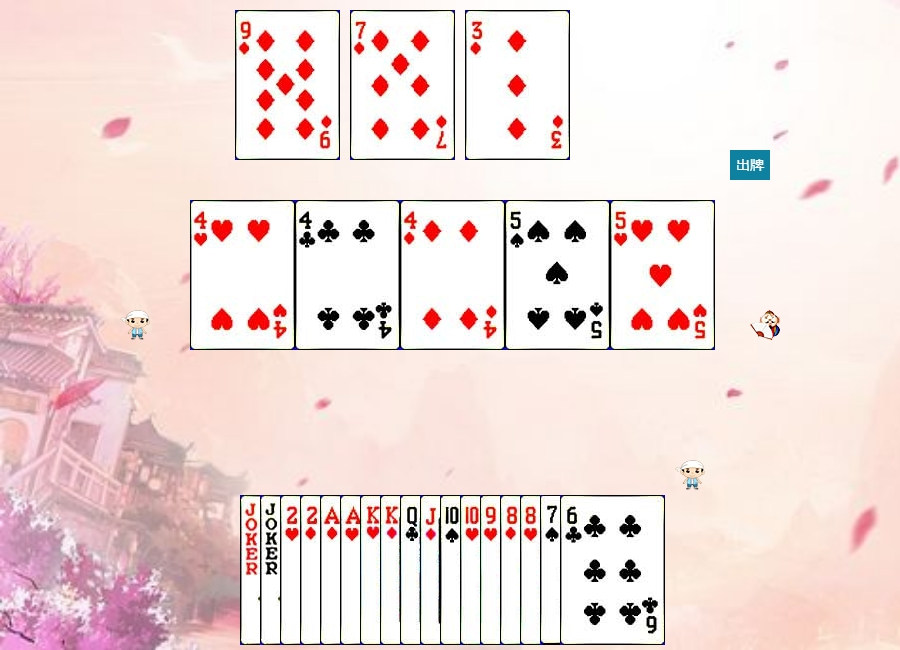10~3: (460, 495, 565, 645)
10~4: (440, 495, 545, 645)
11~1: (420, 495, 525, 645)
12~2: (400, 495, 505, 645)
13~1: (380, 495, 485, 645)
13~3: (360, 495, 465, 645)
14~1: (320, 495, 425, 645)
14~3: (340, 495, 445, 645)
15~1: (300, 495, 405, 645)
15~3: (280, 495, 385, 645)
17~3: (260, 495, 365, 645)
18~4: (240, 495, 345, 645)
3~1: (465, 10, 570, 160)
4~1: (400, 200, 505, 350)
4~2: (295, 200, 400, 350)
4~3: (190, 200, 295, 350)
5~3: (610, 200, 715, 350)
5~4: (505, 200, 610, 350)
6~2: (560, 495, 665, 645)
7~1: (350, 10, 455, 160)
7~4: (540, 495, 645, 645)
8~1: (500, 495, 605, 645)
8~3: (520, 495, 625, 645)
9~1: (235, 10, 340, 160)
9~3: (480, 495, 585, 645)
